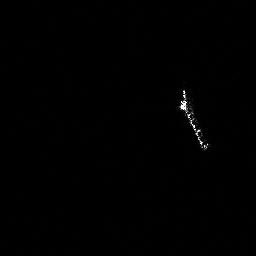ship: (176, 87, 211, 153)
